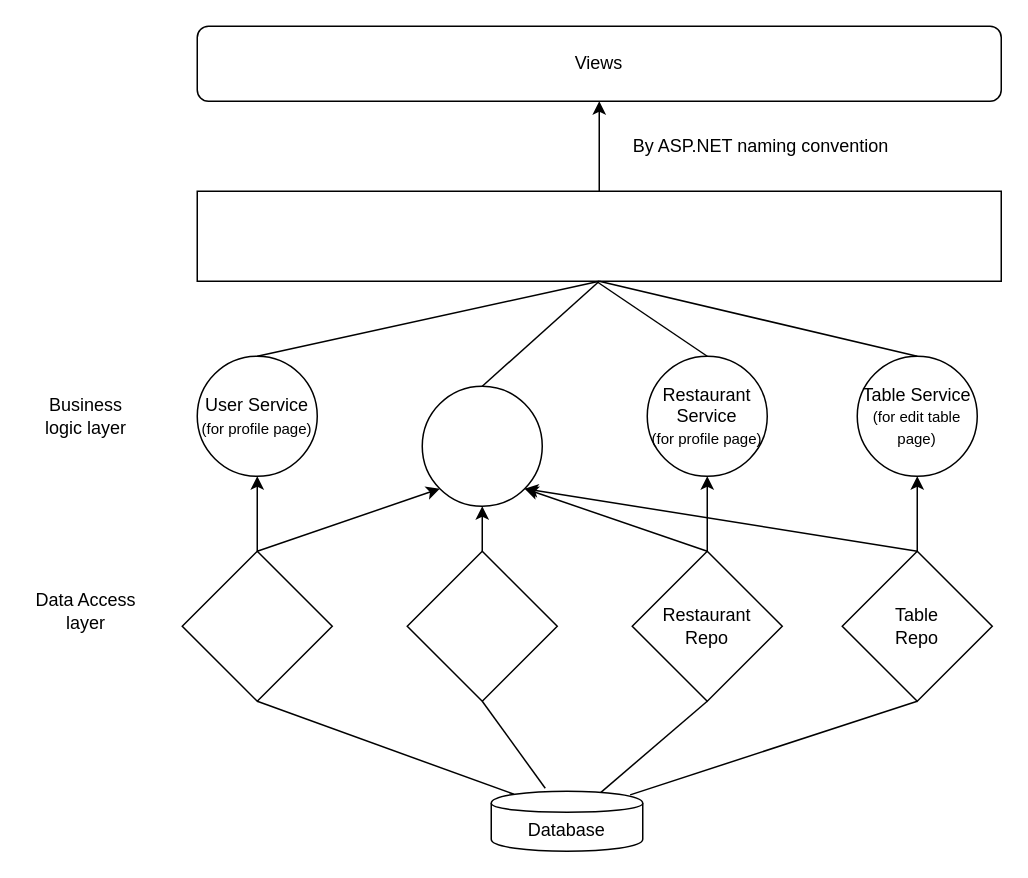
The diagram is 1028 pixels wide and 878 high, and some of its shapes have lost their labels. Here are the shapes that lost their labels. From the top down, the centre of each, then its label:
At point (598, 235): "Controllers".
At point (481, 445): "Booking Service".
At point (256, 625): "User Repo (users with role property)".
At point (481, 625): "Booking Repo".
